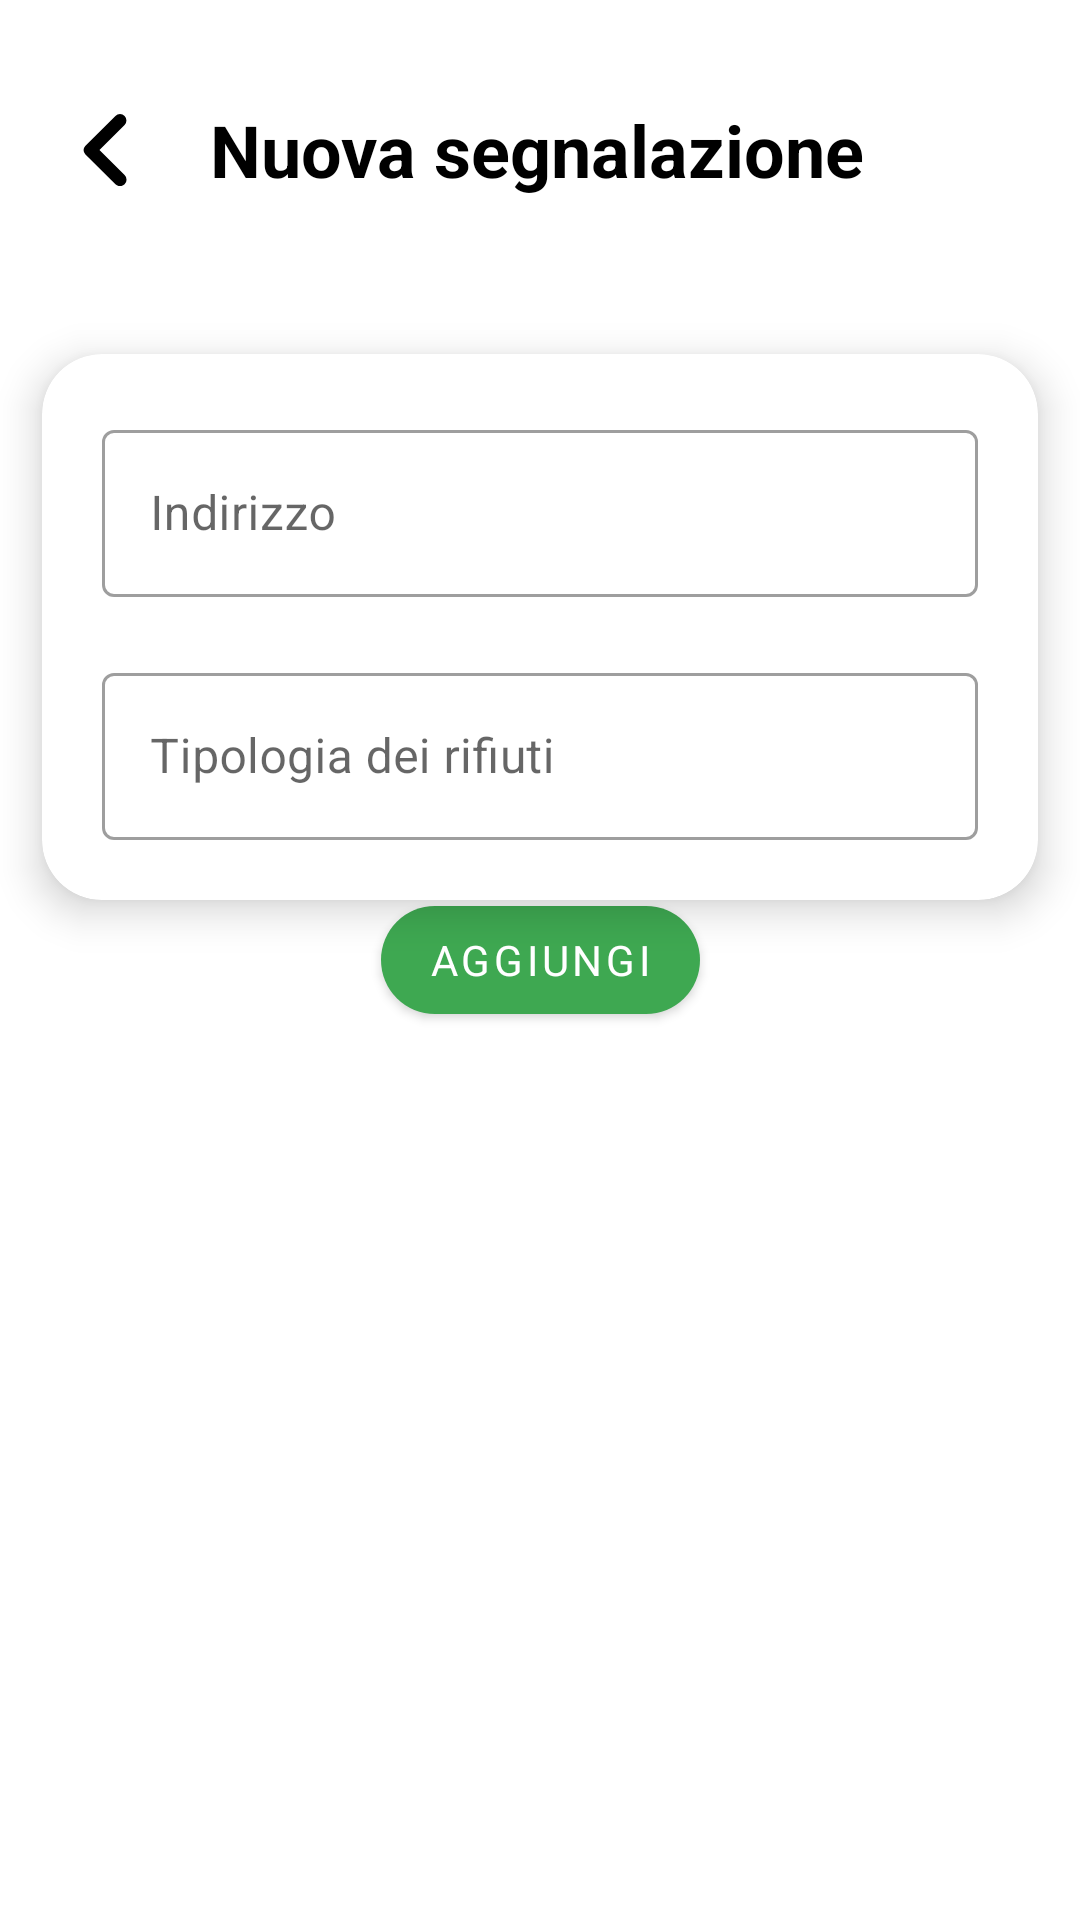

Screen size 1080px×1920px. Icon name, then its box in pixels as (x1=x1, y1=y1, x2=x2, y2=y2):
arrow left: (x1=83, y1=114, x2=127, y2=186)
